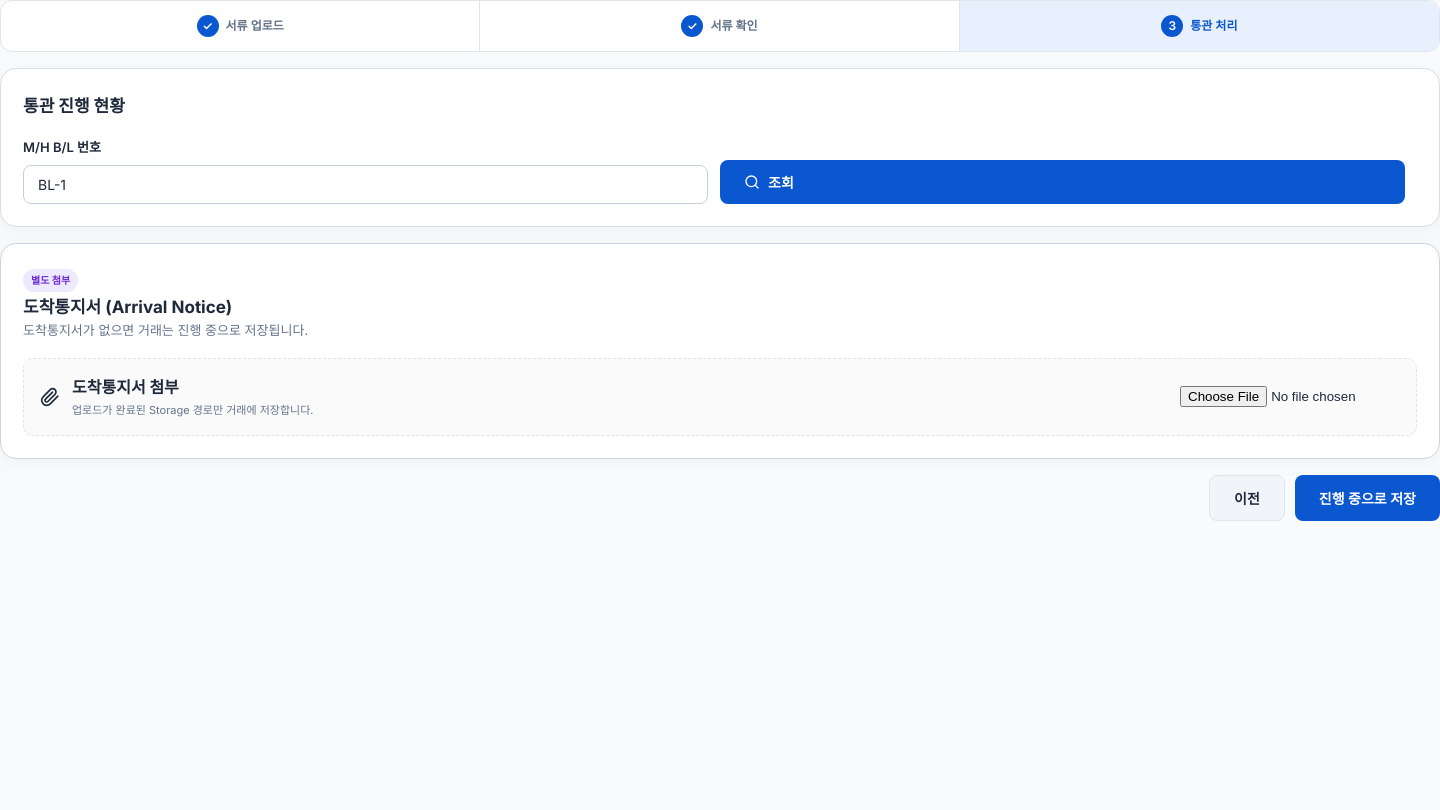
Scenario: 수입 포워더 진행 중 저장 UX › 거래 저장 실패 시 form, attachment, draft와 workspace 상태를 유지한다
Click the button "진행 중으로 저장".
click(1367, 498)  # box [1295,474,1439,520]
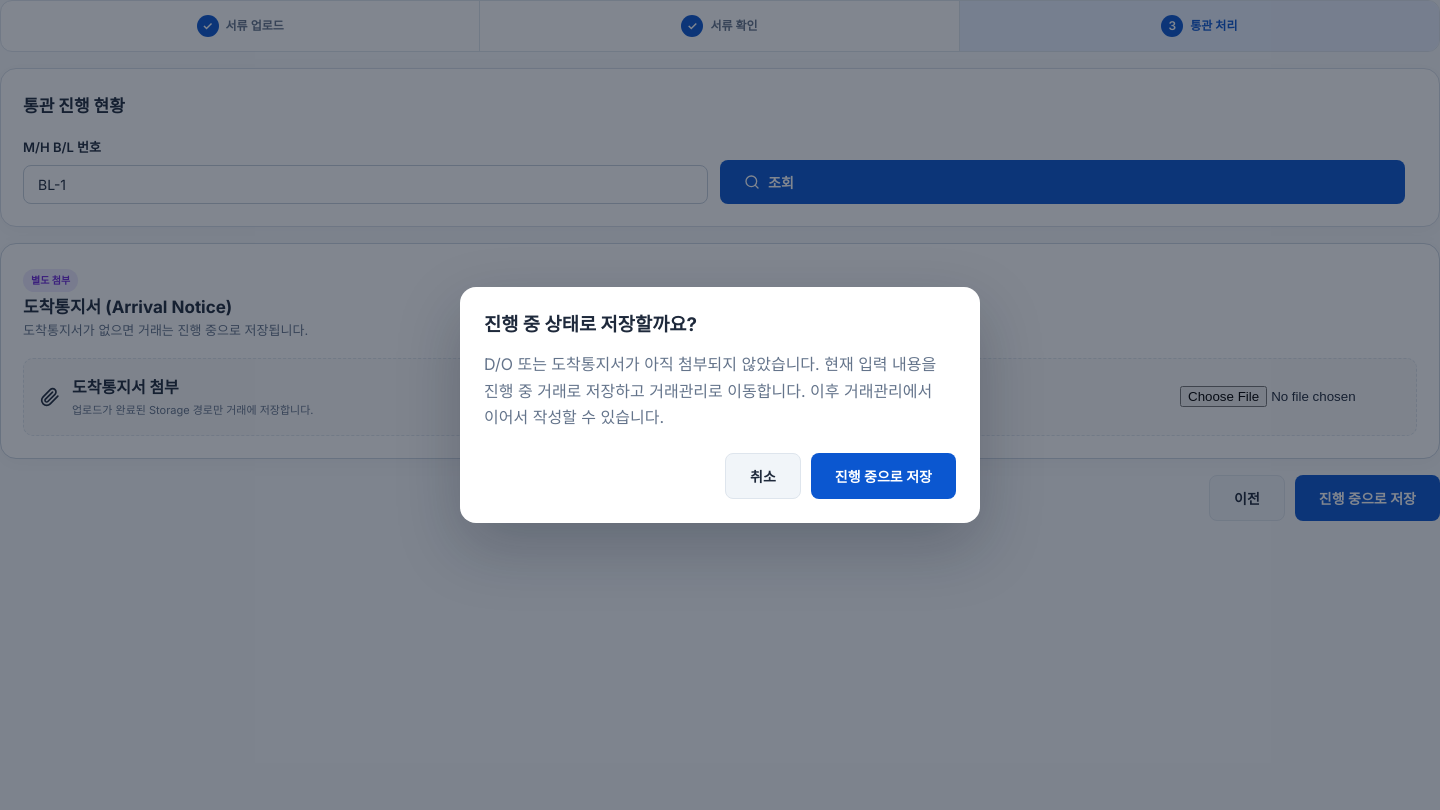
Click the button "진행 중으로 저장".
click(883, 476)  # box [811,453,956,499]
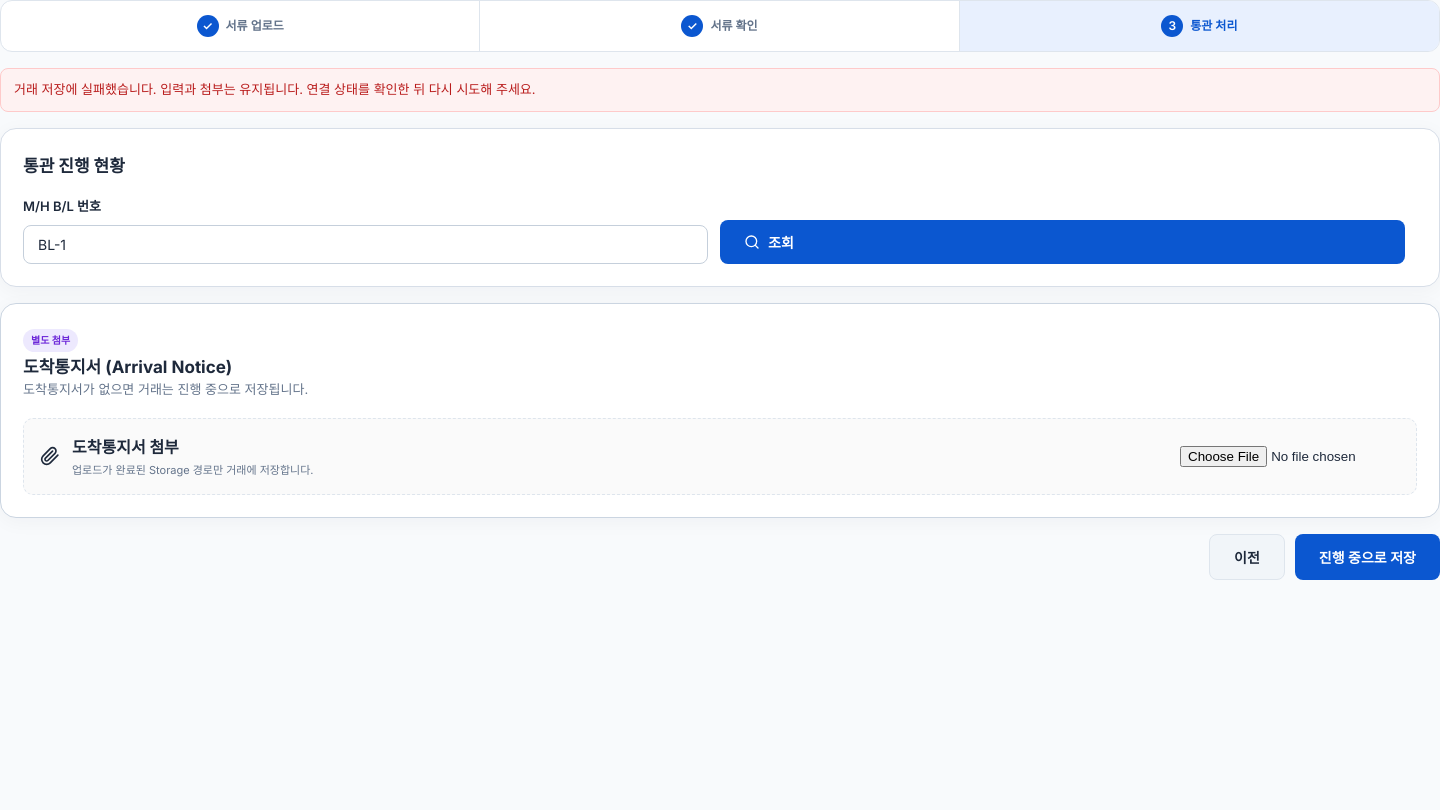
Now the text "입력과 첨부는 유지" is shown, box [14,81,536,97]
